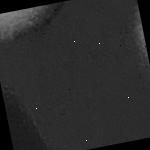colony: (0, 0, 88, 46), (116, 0, 150, 84)
